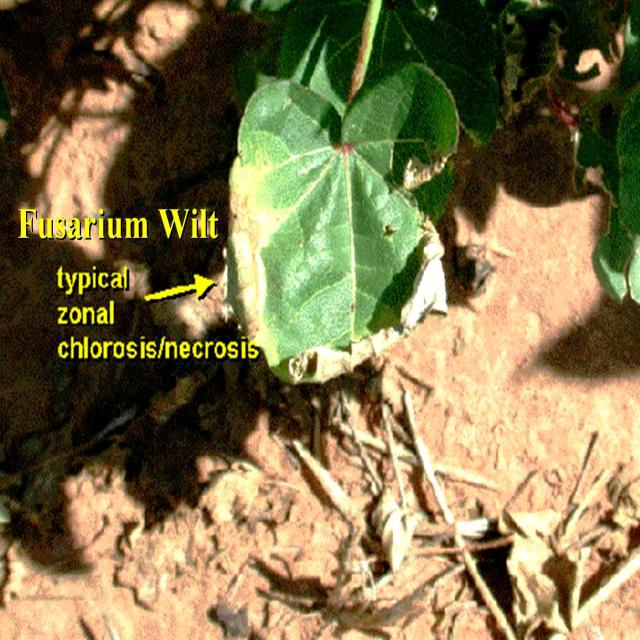Fusarium Wilt: (218, 101, 380, 396)
